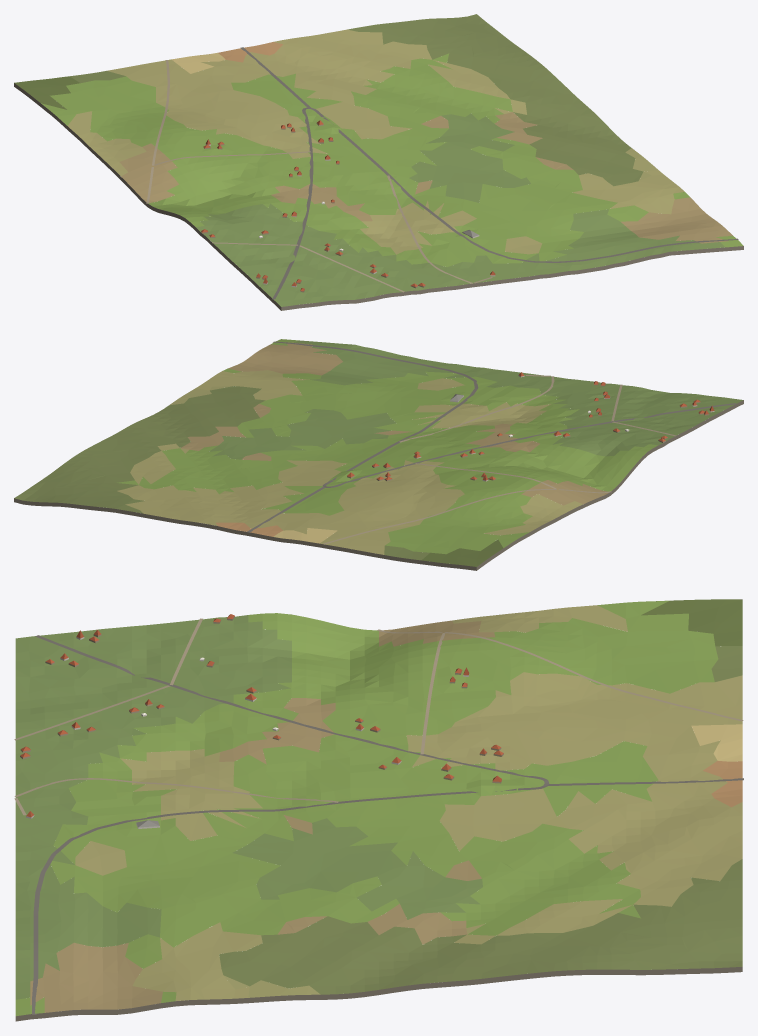
File: parca_+11_-6-uzak.glb
3 views of the same model, one above another, from view 1: azimuth 30°, elevation 25°; view 2: azimuth 150°, elevation 25°; view 3: azimuth 270°, elevation 25° (orthographic). The views are drawn at different scales.
Parts seen in each view (by area): view 1: parca_+11_-6_arazi_uzak, parca_+11_-6_yollar_uzak, parca_+11_-6_yapilar_uzak; view 2: parca_+11_-6_arazi_uzak, parca_+11_-6_yollar_uzak, parca_+11_-6_yapilar_uzak; view 3: parca_+11_-6_arazi_uzak, parca_+11_-6_yollar_uzak, parca_+11_-6_yapilar_uzak.
Part boxes in pixels (x1=…): parca_+11_-6_arazi_uzak: x1=14, y1=14, x2=743, y2=310; parca_+11_-6_yollar_uzak: x1=146, y1=47, x2=738, y2=299; parca_+11_-6_yapilar_uzak: x1=201, y1=120, x2=495, y2=292; parca_+11_-6_arazi_uzak: x1=14, y1=339, x2=743, y2=570; parca_+11_-6_yollar_uzak: x1=247, y1=341, x2=735, y2=544; parca_+11_-6_yapilar_uzak: x1=347, y1=372, x2=714, y2=481; parca_+11_-6_arazi_uzak: x1=15, y1=599, x2=742, y2=1021; parca_+11_-6_yollar_uzak: x1=14, y1=618, x2=743, y2=1014; parca_+11_-6_yapilar_uzak: x1=20, y1=614, x2=503, y2=828.
Bounding box in the file's own units: 1005 × 174 × 1004.
